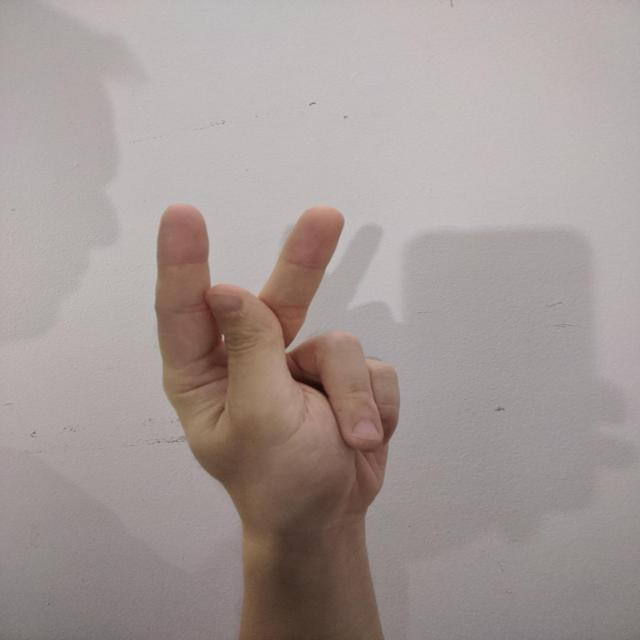K: (147, 196, 407, 534)
